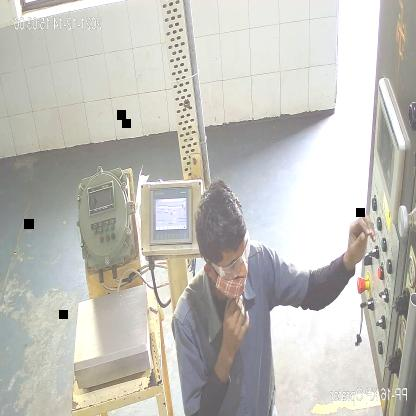goggles: (212, 242, 252, 283)
